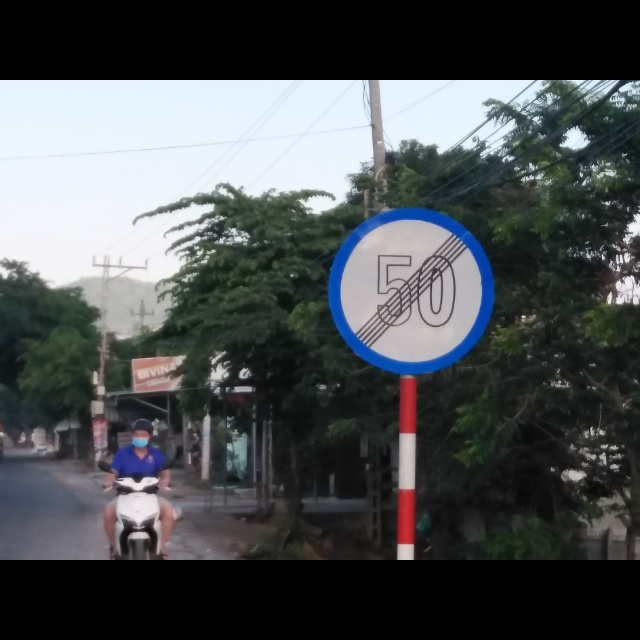Hết hạn chế tốc độ tối đa 50km/h: (325, 203, 497, 378)
